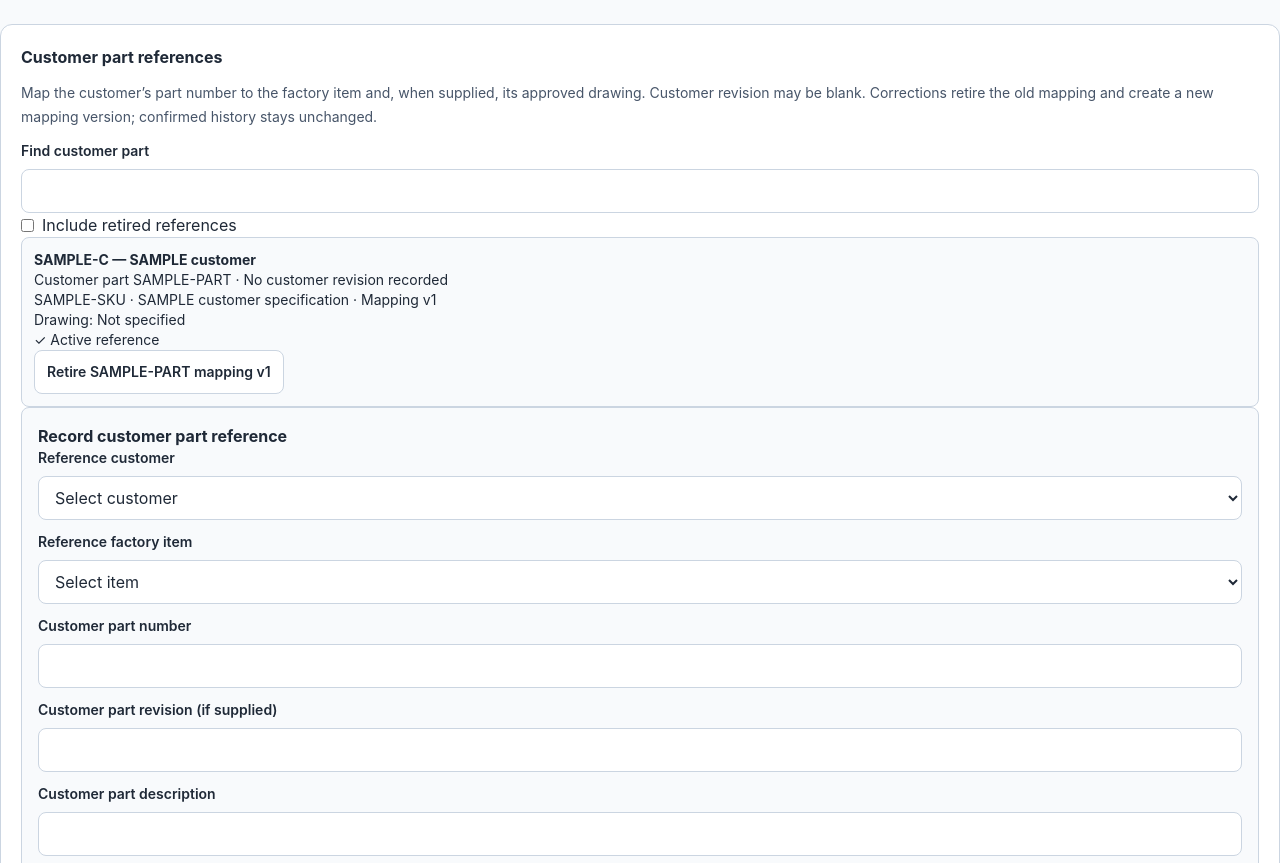
Test case: retirement reports success only after confirmation and retains the failed reason
This screenshot has width=1280, height=863.
Step 1. Click the button "Retire SAMPLE-PART mapping v1" → [159, 372], box 34,350 -> 284,394
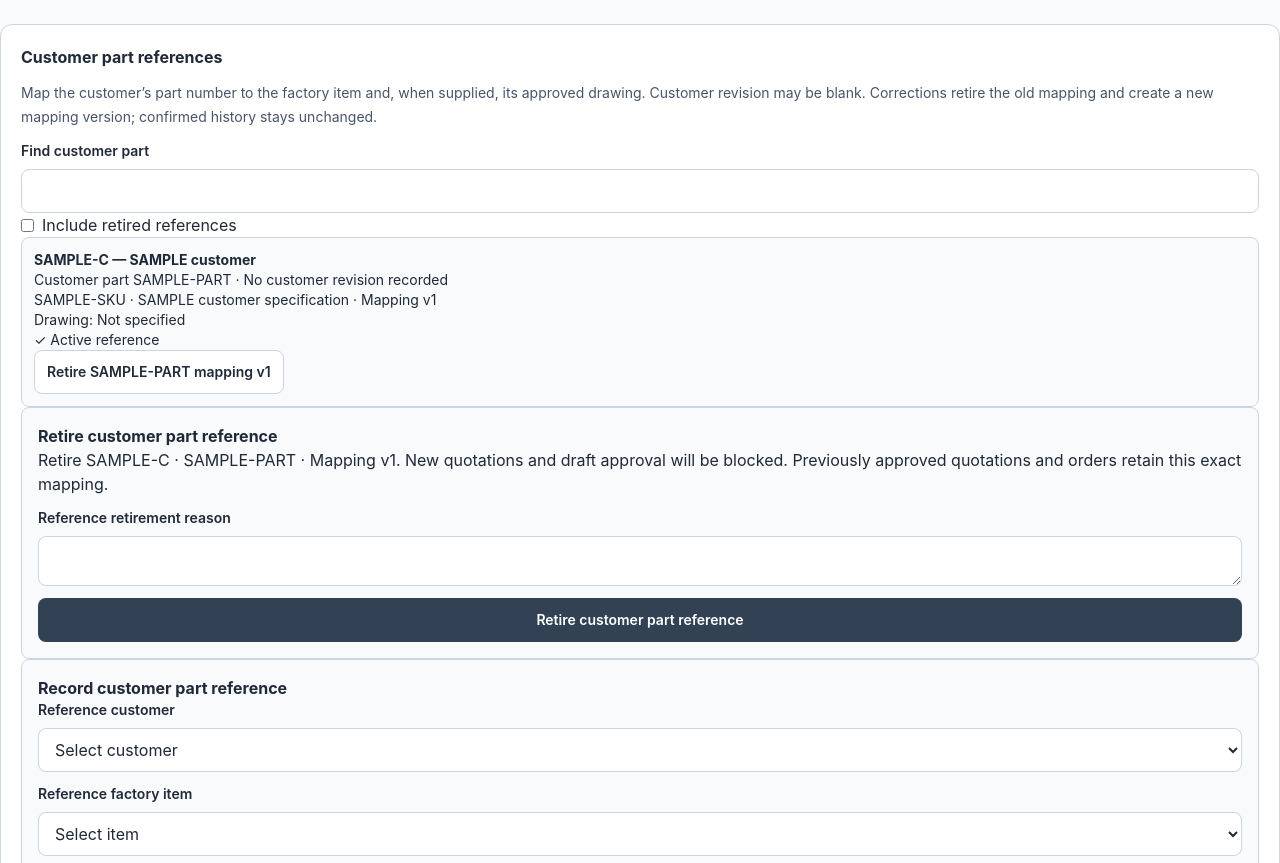
Step 2. Type "SAMPLE corrected mapping" into the text box labelled "Reference retirement reason" → [640, 561], box 38,536 -> 1242,586
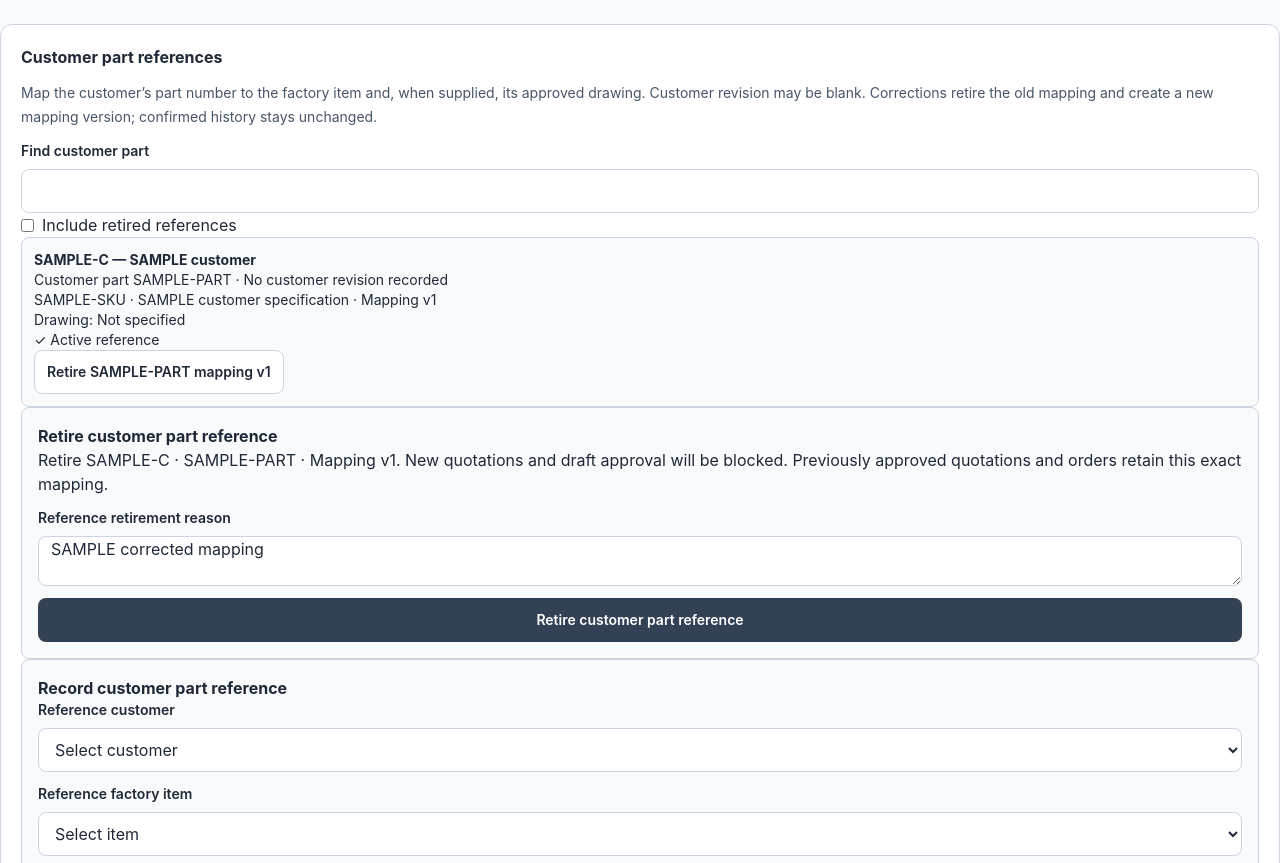
Step 3. Submit the form "Retire customer part reference", box 21,407 -> 1259,659
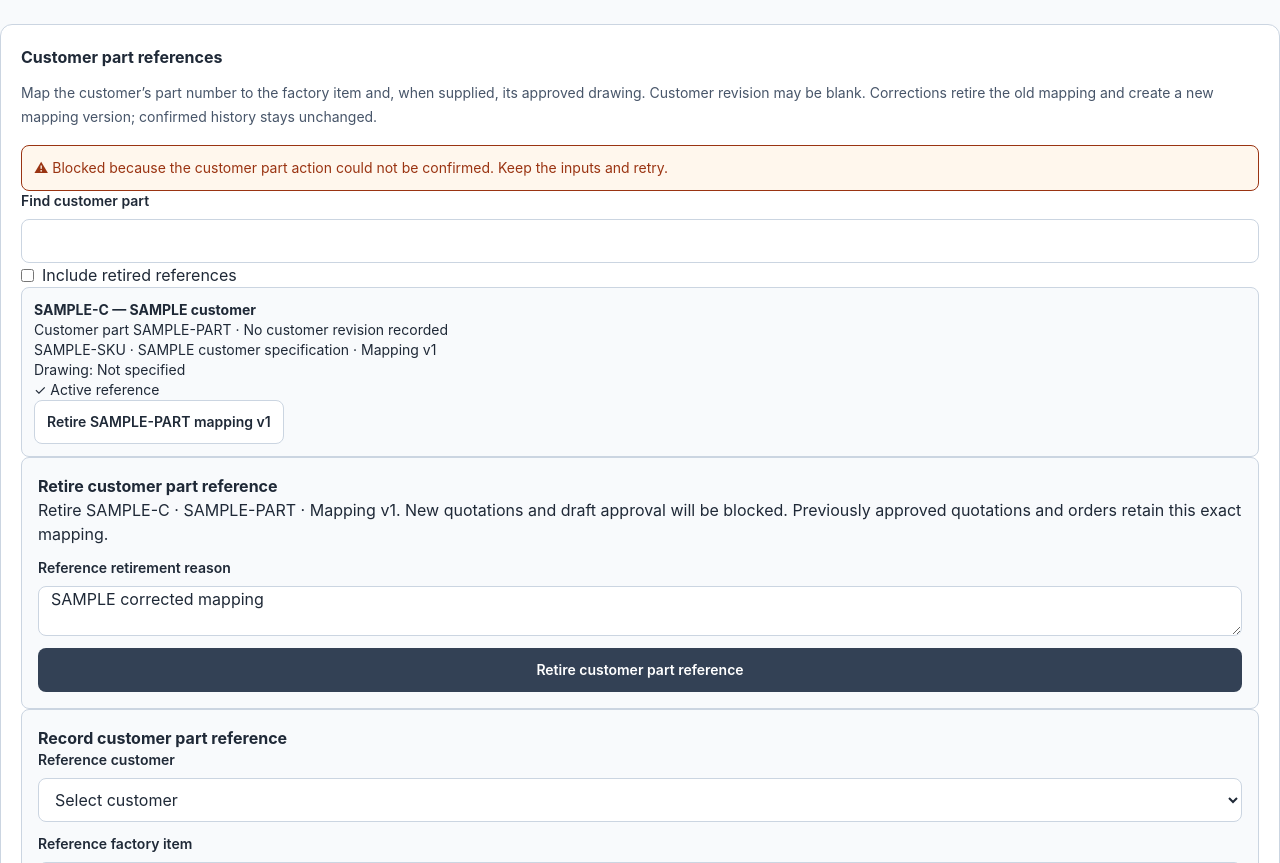
Check: the message shows "could not be confirmed", box 52,159 -> 668,176
